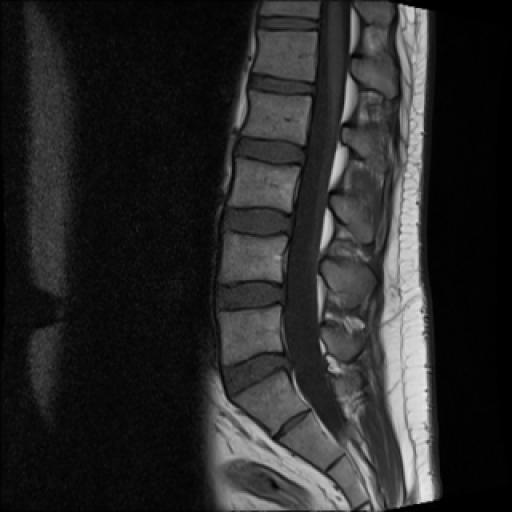L1: (254, 30, 316, 80)
L2: (242, 91, 311, 144)
L3: (228, 158, 300, 212)
L4: (218, 232, 288, 284)
L5: (218, 305, 283, 364)
S1: (232, 370, 308, 436)
